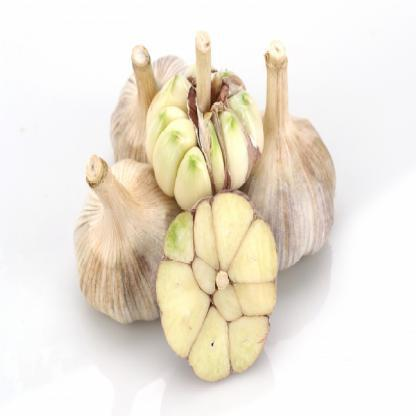garlic: (66, 145, 188, 330), (159, 194, 275, 387), (246, 48, 342, 274), (152, 37, 265, 202), (113, 50, 200, 160)
